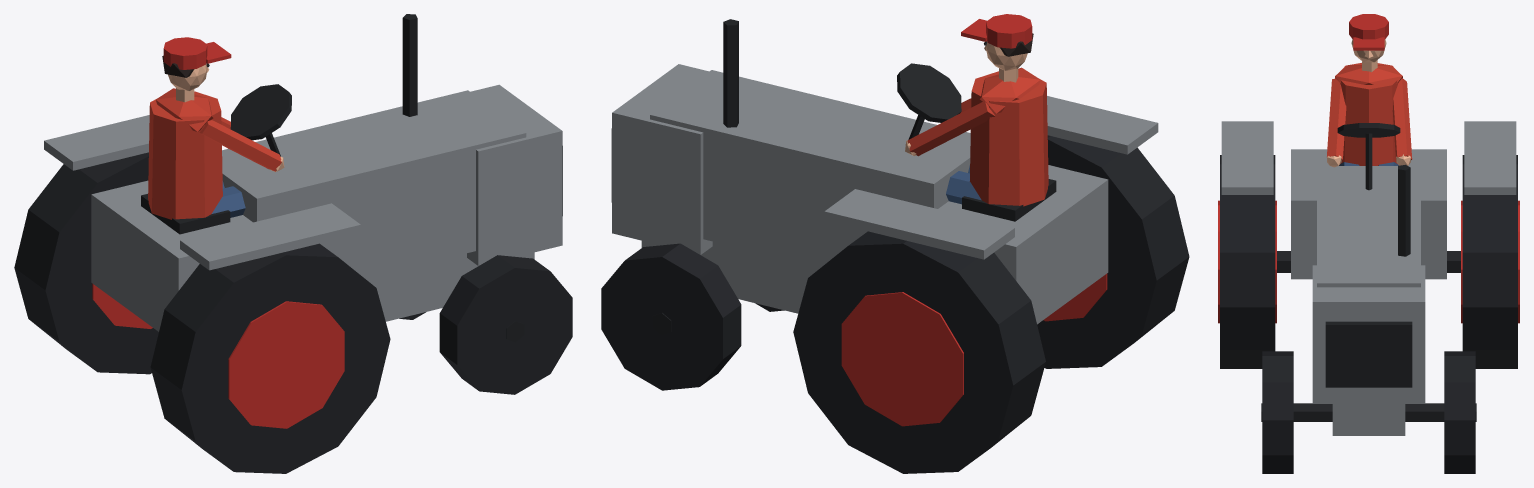
File: traktor.glb
3 views of the same model, side by side, from view 1: azimuth 30°, elevation 25°; view 2: azimuth 150°, elevation 25°; view 3: azimuth 270°, elevation 25° (orthographic). The views are drawn at different scales.
Visible parts, largest first — view 1: traktor; view 2: traktor; view 3: traktor.
Part boxes in pixels (bbox=[...]): traktor: bbox=[14, 14, 572, 473]; traktor: bbox=[601, 14, 1189, 473]; traktor: bbox=[1218, 14, 1519, 473].
Size of the model in its own units: 2.61 by 2.1 by 1.74.
